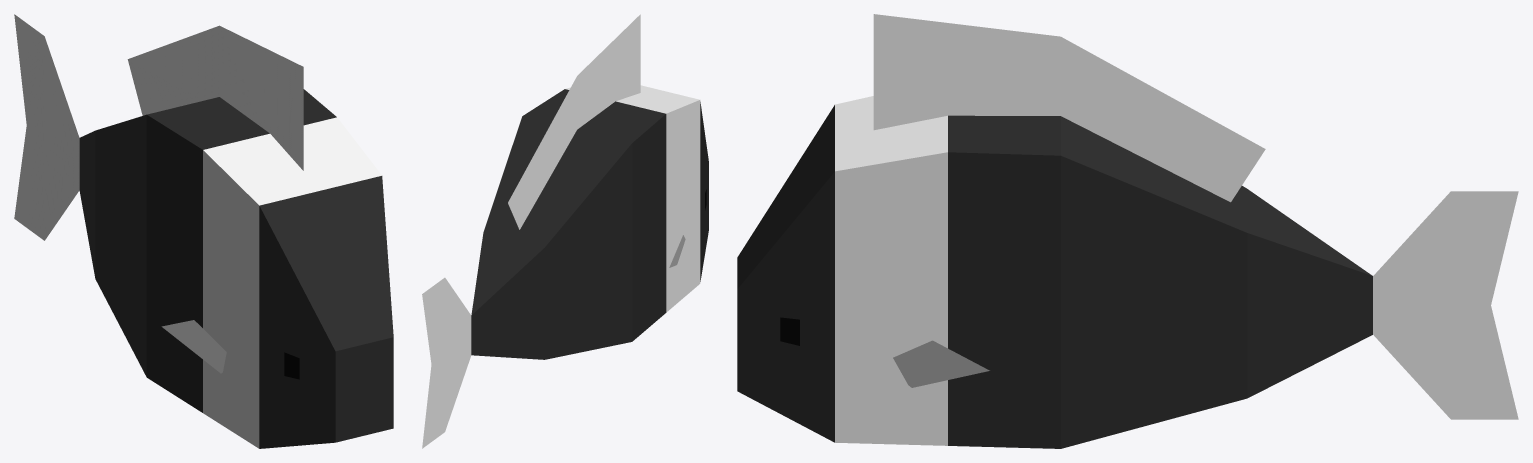
Rendered from 24fish.fbx.
3 renders of one model, left to right at view 1: azimuth 30°, elevation 25°; view 2: azimuth 150°, elevation 25°; view 3: azimuth 270°, elevation 25°, orthographic. The views are drawn at different scales.
Visible parts, largest first — view 1: Tropical Fish 24; view 2: Tropical Fish 24; view 3: Tropical Fish 24.
Boxes of the visible parts, x1,y1,x2,y2 form: Tropical Fish 24: [14, 14, 393, 448]; Tropical Fish 24: [422, 14, 708, 448]; Tropical Fish 24: [737, 14, 1518, 448].
Size of the model in its own units: 74.14 by 143 by 250.
